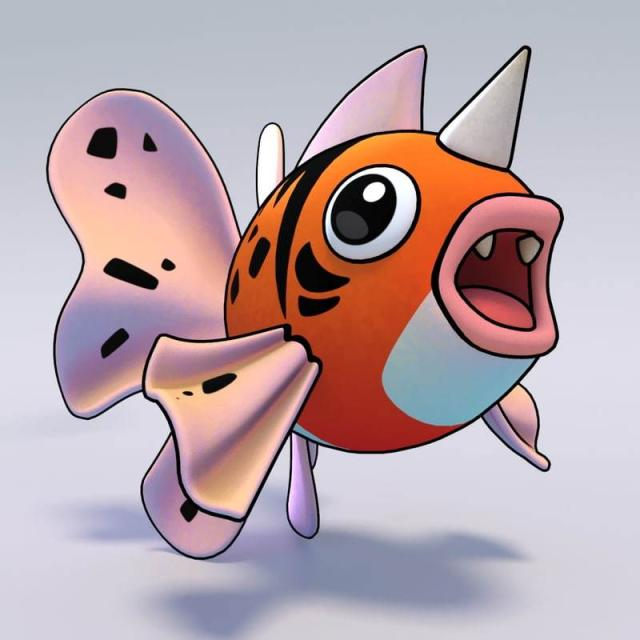Seaking: (138, 48, 558, 520)
